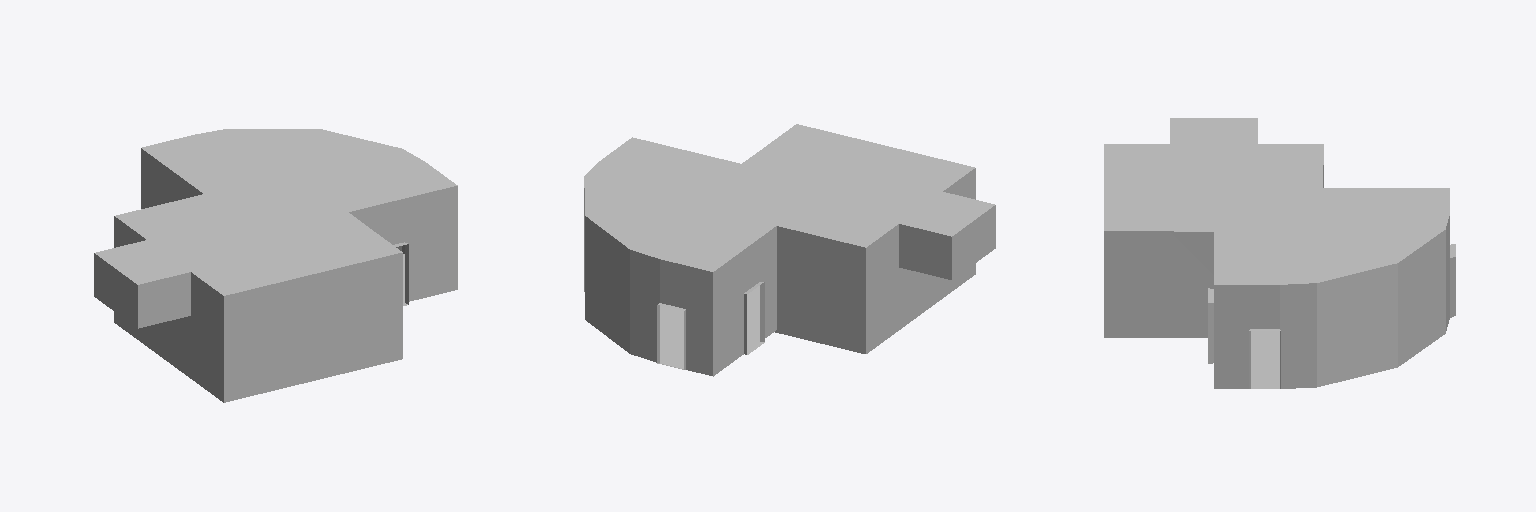
The model's file is Library_Block.obj.
3 renders of one model, left to right at view 1: azimuth 30°, elevation 25°; view 2: azimuth 150°, elevation 25°; view 3: azimuth 270°, elevation 25°, orthographic.
Parts seen in each view (by area): view 1: polySurface76 polySurface73 pCube19; view 2: polySurface76 polySurface73 pCube19; view 3: polySurface76 polySurface73 pCube19.
Boxes of the visible parts, x1,y1,x2,y2 form: polySurface76 polySurface73 pCube19: [94, 129, 457, 402]; polySurface76 polySurface73 pCube19: [584, 124, 995, 376]; polySurface76 polySurface73 pCube19: [1104, 118, 1455, 388].
Size of the model in its own units: 1625 by 479 by 1427.